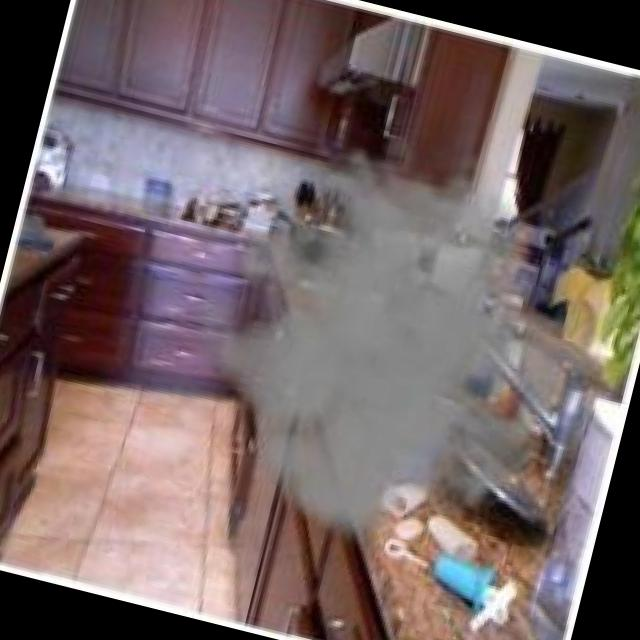Smoke: (134, 88, 640, 598)
